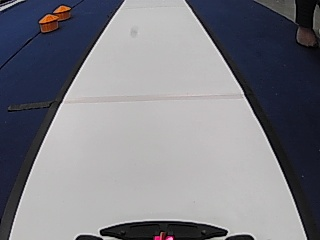granary: (37, 13, 59, 33), (52, 5, 71, 20)
